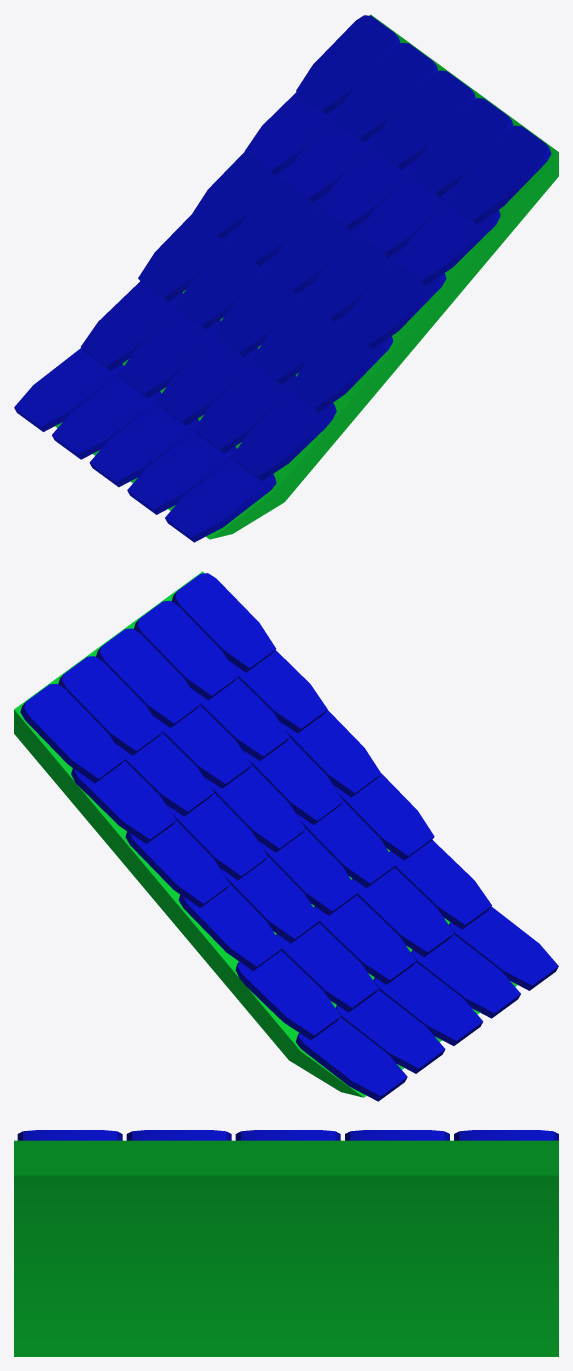
Rendered from RoofBottomRepetition.fbx.
3 renders of one model, top to bottom at view 1: azimuth 30°, elevation 25°; view 2: azimuth 150°, elevation 25°; view 3: azimuth 270°, elevation 25°, orthographic. The views are drawn at different scales.
Parts seen in each view (by area): view 1: RoofBottomRepetition (×2); view 2: RoofBottomRepetition (×2); view 3: RoofBottomRepetition (×2).
Part boxes in pixels (x1,y1,x2,y2): RoofBottomRepetition (×2): [14, 14, 558, 542]; RoofBottomRepetition (×2): [14, 571, 558, 1101]; RoofBottomRepetition (×2): [14, 1130, 558, 1356].
Bounding box in the file's own units: 2.22 × 1.83 × 2.
